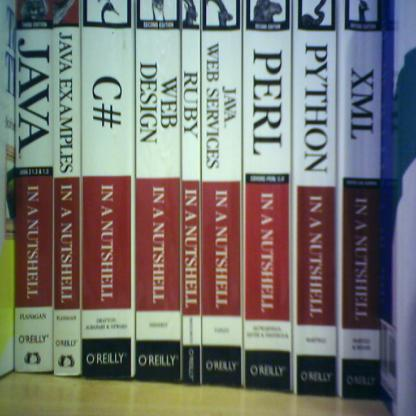book: (12, 38, 416, 416)
